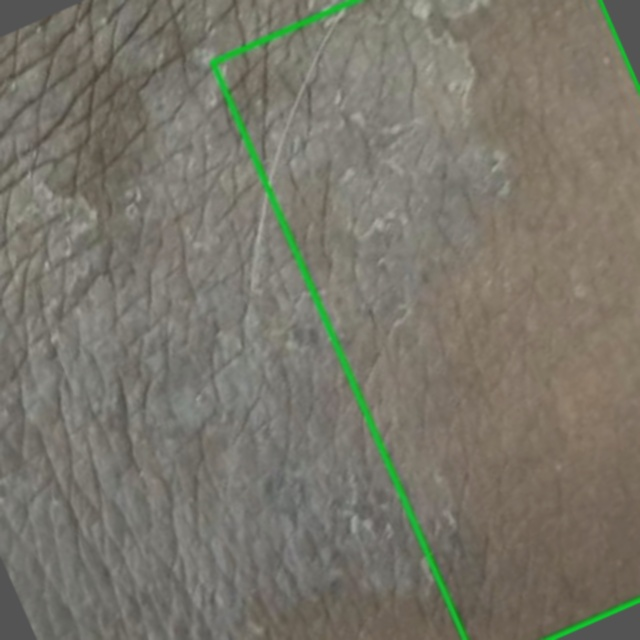Eczema: (212, 0, 639, 639)
